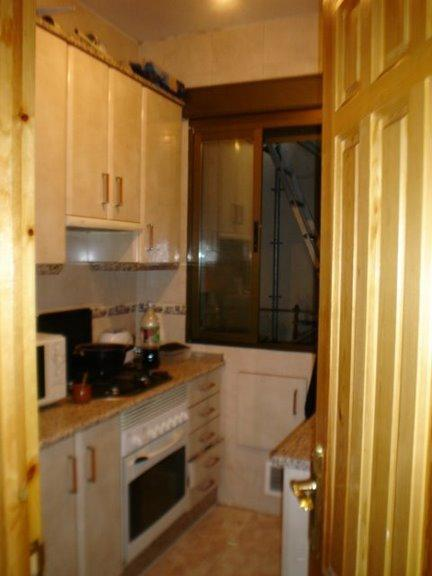Electrodomestico: (128, 382, 188, 575)
Puerta: (318, 5, 430, 572)
Ventana: (192, 119, 324, 349)
